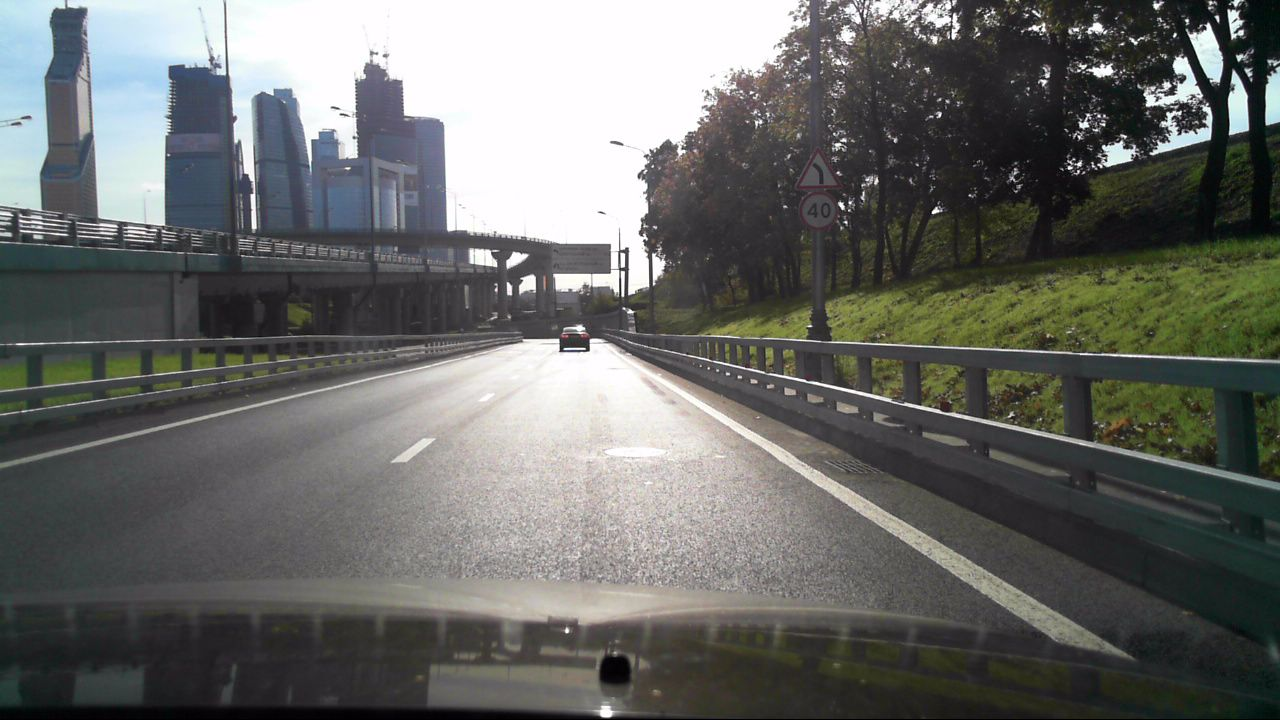speed_warning_40: (799, 191, 840, 231)
